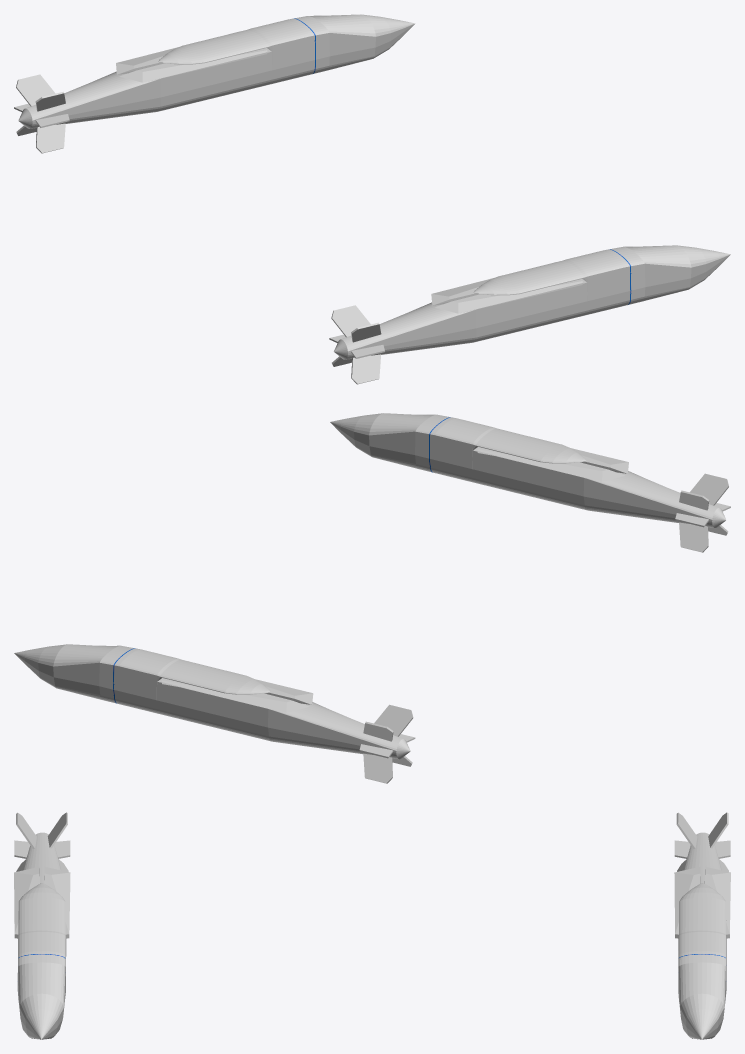
Rendered from f16cagm15414.glb.
The picture shows the model from 3 angles, top to bottom: view 1: azimuth 30°, elevation 25°; view 2: azimuth 150°, elevation 25°; view 3: azimuth 270°, elevation 25°; orthographic projection. The views are drawn at different scales.
Parts seen in each view (by area): view 1: 立方体.001, 立方体.002; view 2: 立方体.002, 立方体.001; view 3: 立方体.001, 立方体.002.
Boxes of the visible parts, x1,y1,x2,y2 form: 立方体.001: (14, 14, 415, 153); 立方体.002: (329, 245, 730, 384); 立方体.002: (330, 413, 730, 552); 立方体.001: (14, 644, 415, 783); 立方体.001: (674, 812, 730, 1039); 立方体.002: (14, 812, 70, 1039).
Size of the model in its own units: 5.26 by 0.7224 by 7.86.
Materials: 5 (1 with a texture image).
